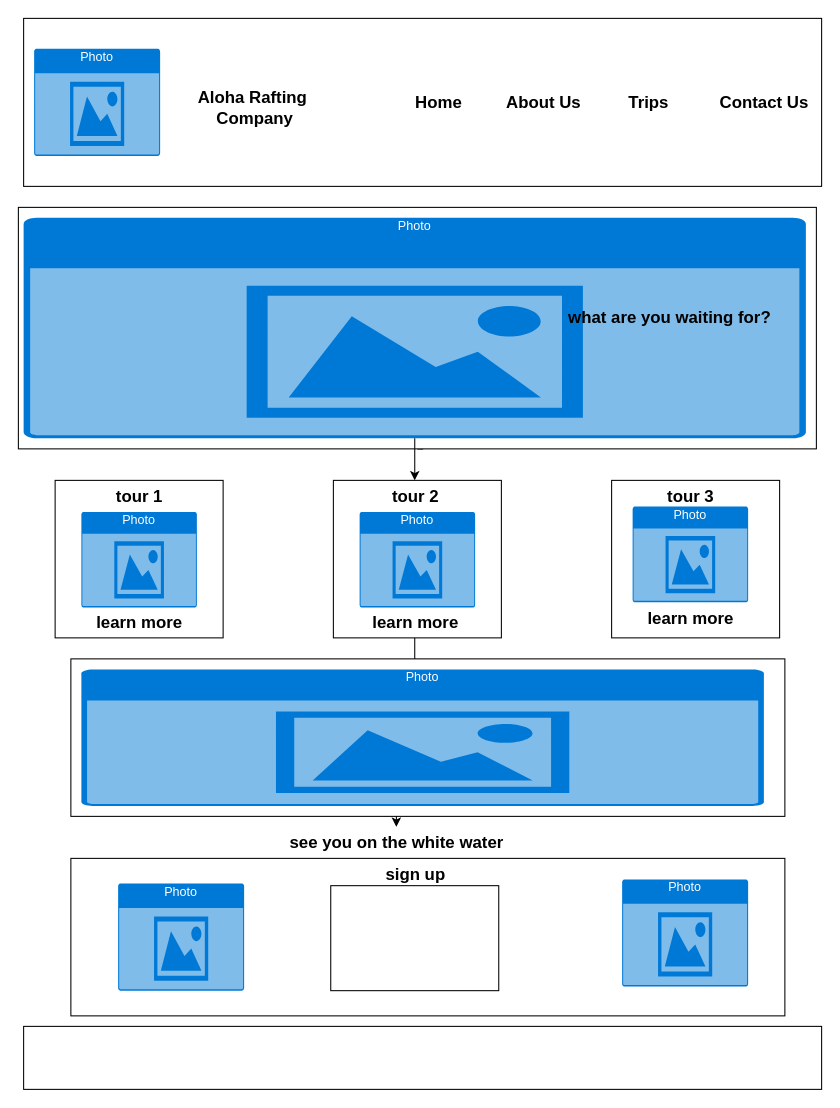
This 840x1108 diagram has some shape labels left out. The box of each missing label's shape, as (x1, y1, x2, y2) in pixels:
Footer: (23, 1025, 822, 1089)
form for newsletter sign: (330, 885, 499, 991)
